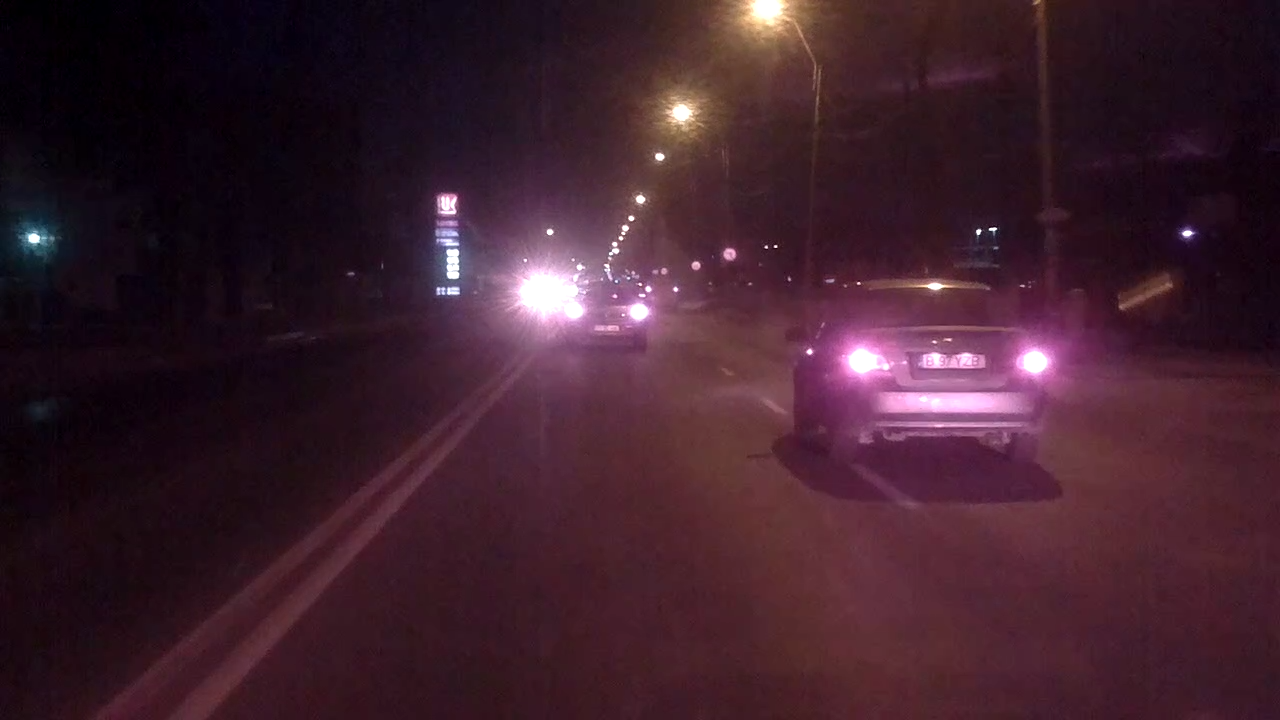license-plate: (912, 348, 989, 372)
